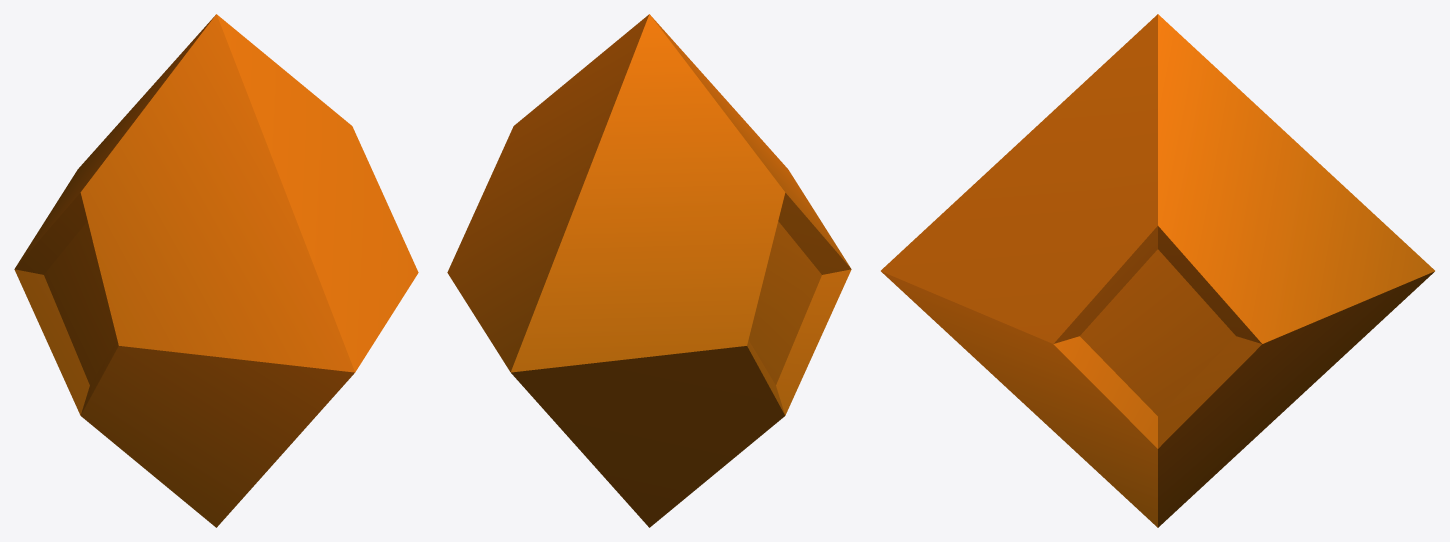
Rendered from Earth Crystal.fbx.
The picture shows the model from 3 angles, left to right: view 1: azimuth 30°, elevation 25°; view 2: azimuth 150°, elevation 25°; view 3: azimuth 270°, elevation 25°; orthographic projection.
Visible parts, largest first — view 1: EARTH CRYSTAL.001; view 2: EARTH CRYSTAL.001; view 3: EARTH CRYSTAL.001.
Part boxes in pixels (x1,y1,x2,y2): EARTH CRYSTAL.001: (14, 14, 418, 527); EARTH CRYSTAL.001: (447, 14, 851, 527); EARTH CRYSTAL.001: (881, 14, 1434, 527).
Bounding box in the file's own units: 107 × 175 × 171.
Materials: 1 (1 with a texture image).
